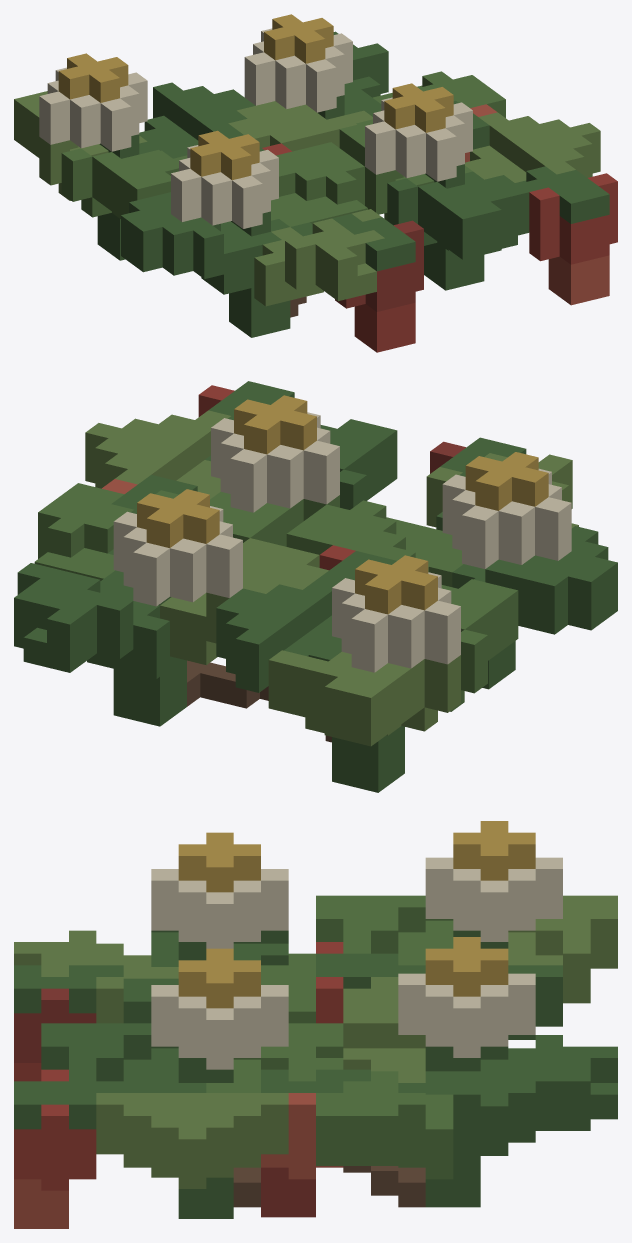
Rendered from wild_strawberry_spring.glb.
3 views of the same model, one above another, from view 1: azimuth 30°, elevation 25°; view 2: azimuth 150°, elevation 25°; view 3: azimuth 270°, elevation 25° (orthographic). The views are drawn at different scales.
Parts seen in each view (by area): view 1: VoxelVisual; view 2: VoxelVisual; view 3: VoxelVisual.
Boxes of the visible parts, x1,y1,x2,y2 form: VoxelVisual: (14,14,617,352); VoxelVisual: (14,381,617,792); VoxelVisual: (14,821,617,1228).
Size of what is drawn, in the model's own units: 1.44 by 0.5625 by 1.38.
